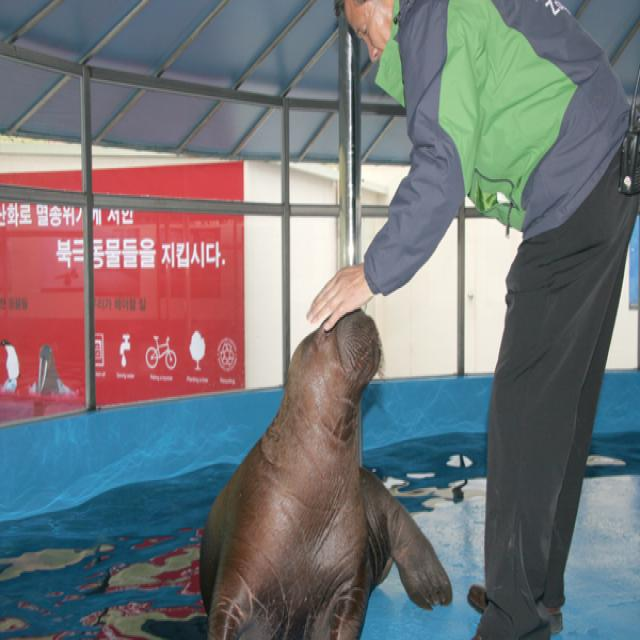walrus: (186, 275, 449, 633)
